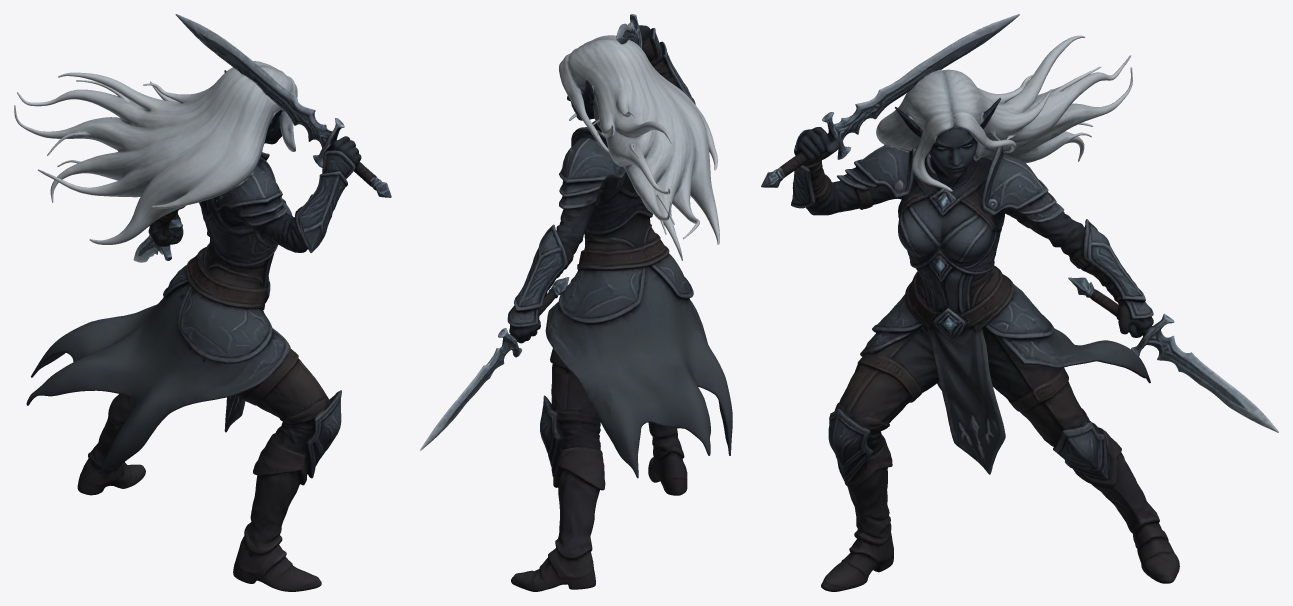
File: aiprintgen_Dark Elf Warrior with Dual Swords-preview.glb
The picture shows the model from 3 angles, left to right: view 1: azimuth 30°, elevation 25°; view 2: azimuth 150°, elevation 25°; view 3: azimuth 270°, elevation 25°; orthographic projection. The views are drawn at different scales.
Visible parts, largest first — view 1: aiprintgen_node_f65b0a54-ee0e-4fc1-8606-8382cb16f335; view 2: aiprintgen_node_f65b0a54-ee0e-4fc1-8606-8382cb16f335; view 3: aiprintgen_node_f65b0a54-ee0e-4fc1-8606-8382cb16f335.
Part boxes in pixels (left/top/right/bottom): aiprintgen_node_f65b0a54-ee0e-4fc1-8606-8382cb16f335: left=14, top=14, right=391, bottom=591; aiprintgen_node_f65b0a54-ee0e-4fc1-8606-8382cb16f335: left=420, top=14, right=732, bottom=591; aiprintgen_node_f65b0a54-ee0e-4fc1-8606-8382cb16f335: left=761, top=14, right=1278, bottom=591.
Size of the model in its own units: 0.4392 by 0.9999 by 0.85.
Materials: 1 (1 with a texture image).
